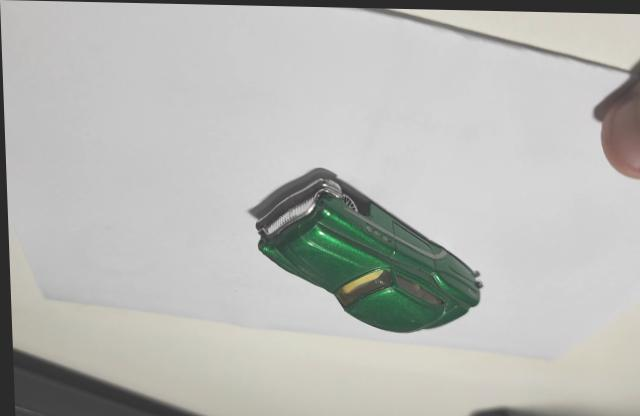06_MASERATI: (246, 165, 481, 331)
